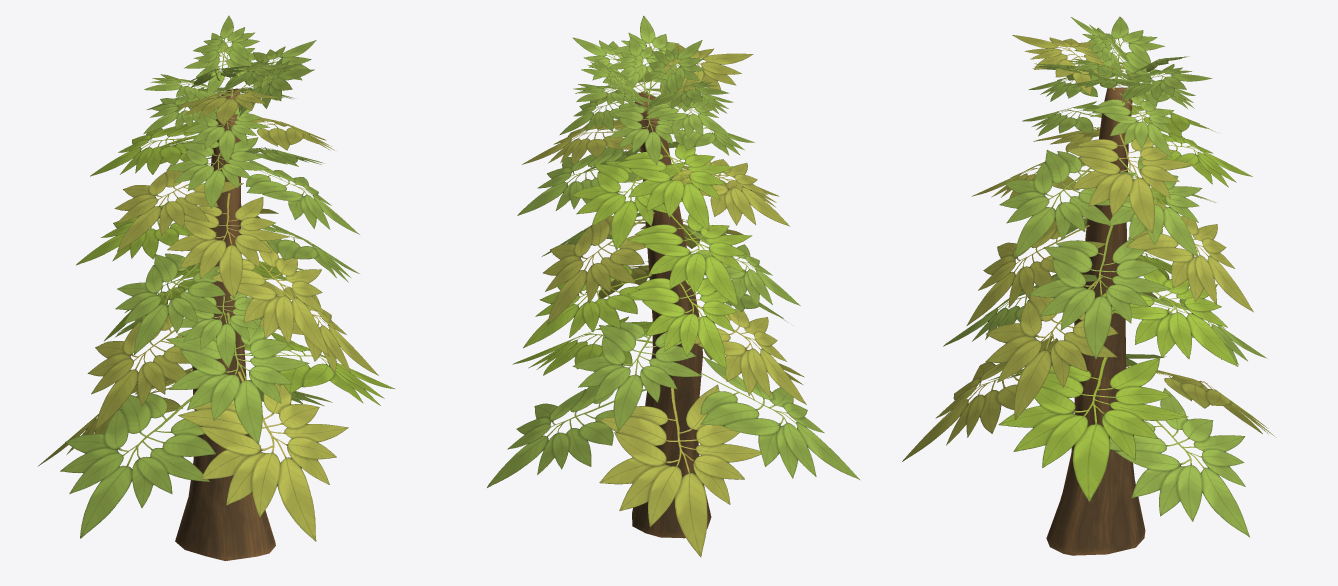
Rendered from Tree_2_new_4.fbx.
The picture shows the model from 3 angles, left to right: view 1: azimuth 30°, elevation 25°; view 2: azimuth 150°, elevation 25°; view 3: azimuth 270°, elevation 25°; orthographic projection. The views are drawn at different scales.
Visible parts, largest first — view 1: Tree_2_new_4; view 2: Tree_2_new_4; view 3: Tree_2_new_4.
Part boxes in pixels (box(x1,y1,x2,y2)): Tree_2_new_4: box(38, 15, 394, 560); Tree_2_new_4: box(487, 15, 860, 557); Tree_2_new_4: box(902, 16, 1274, 555).
Bounding box in the file's own units: 490 × 637 × 480.
